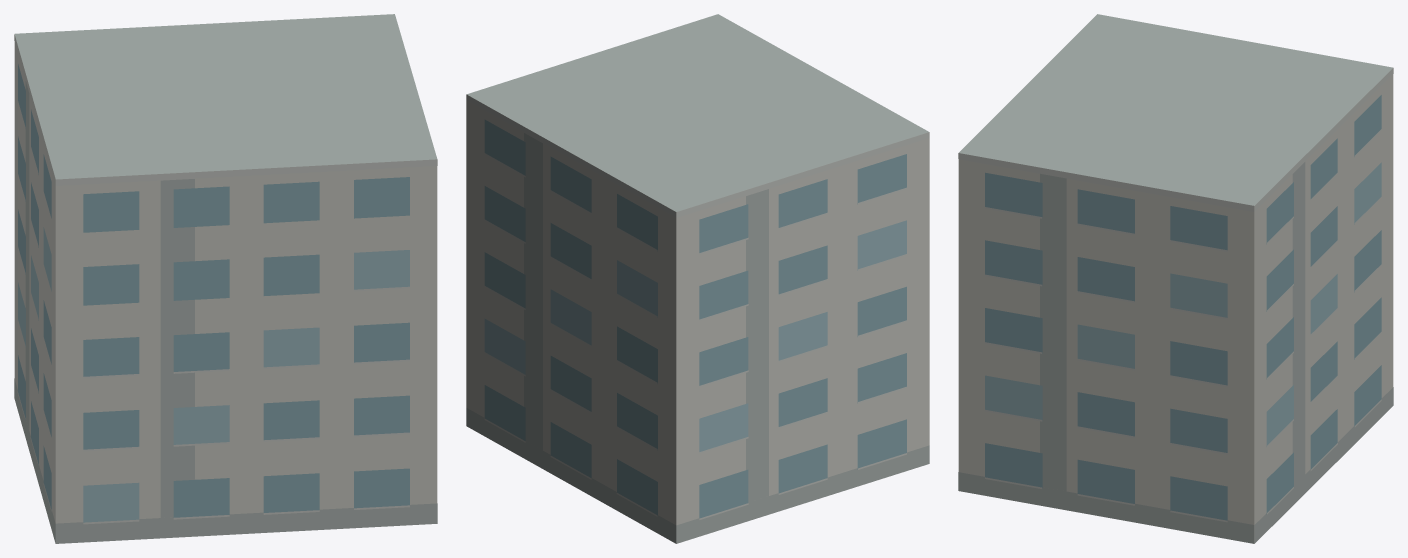
Rendered from survey-upis-32899526.glb.
3 views of the same model, side by side, from view 1: azimuth 30°, elevation 25°; view 2: azimuth 150°, elevation 25°; view 3: azimuth 270°, elevation 25° (orthographic). The views are drawn at different scales.
Visible parts, largest first — view 1: survey-upis-32899526.tmp; view 2: survey-upis-32899526.tmp; view 3: survey-upis-32899526.tmp.
Boxes of the visible parts, <box> form: survey-upis-32899526.tmp: <box>14,14,437,543</box>; survey-upis-32899526.tmp: <box>466,14,929,543</box>; survey-upis-32899526.tmp: <box>958,14,1393,543</box>.
Bounding box in the file's own units: 16.2 × 13.3 × 15.52.
